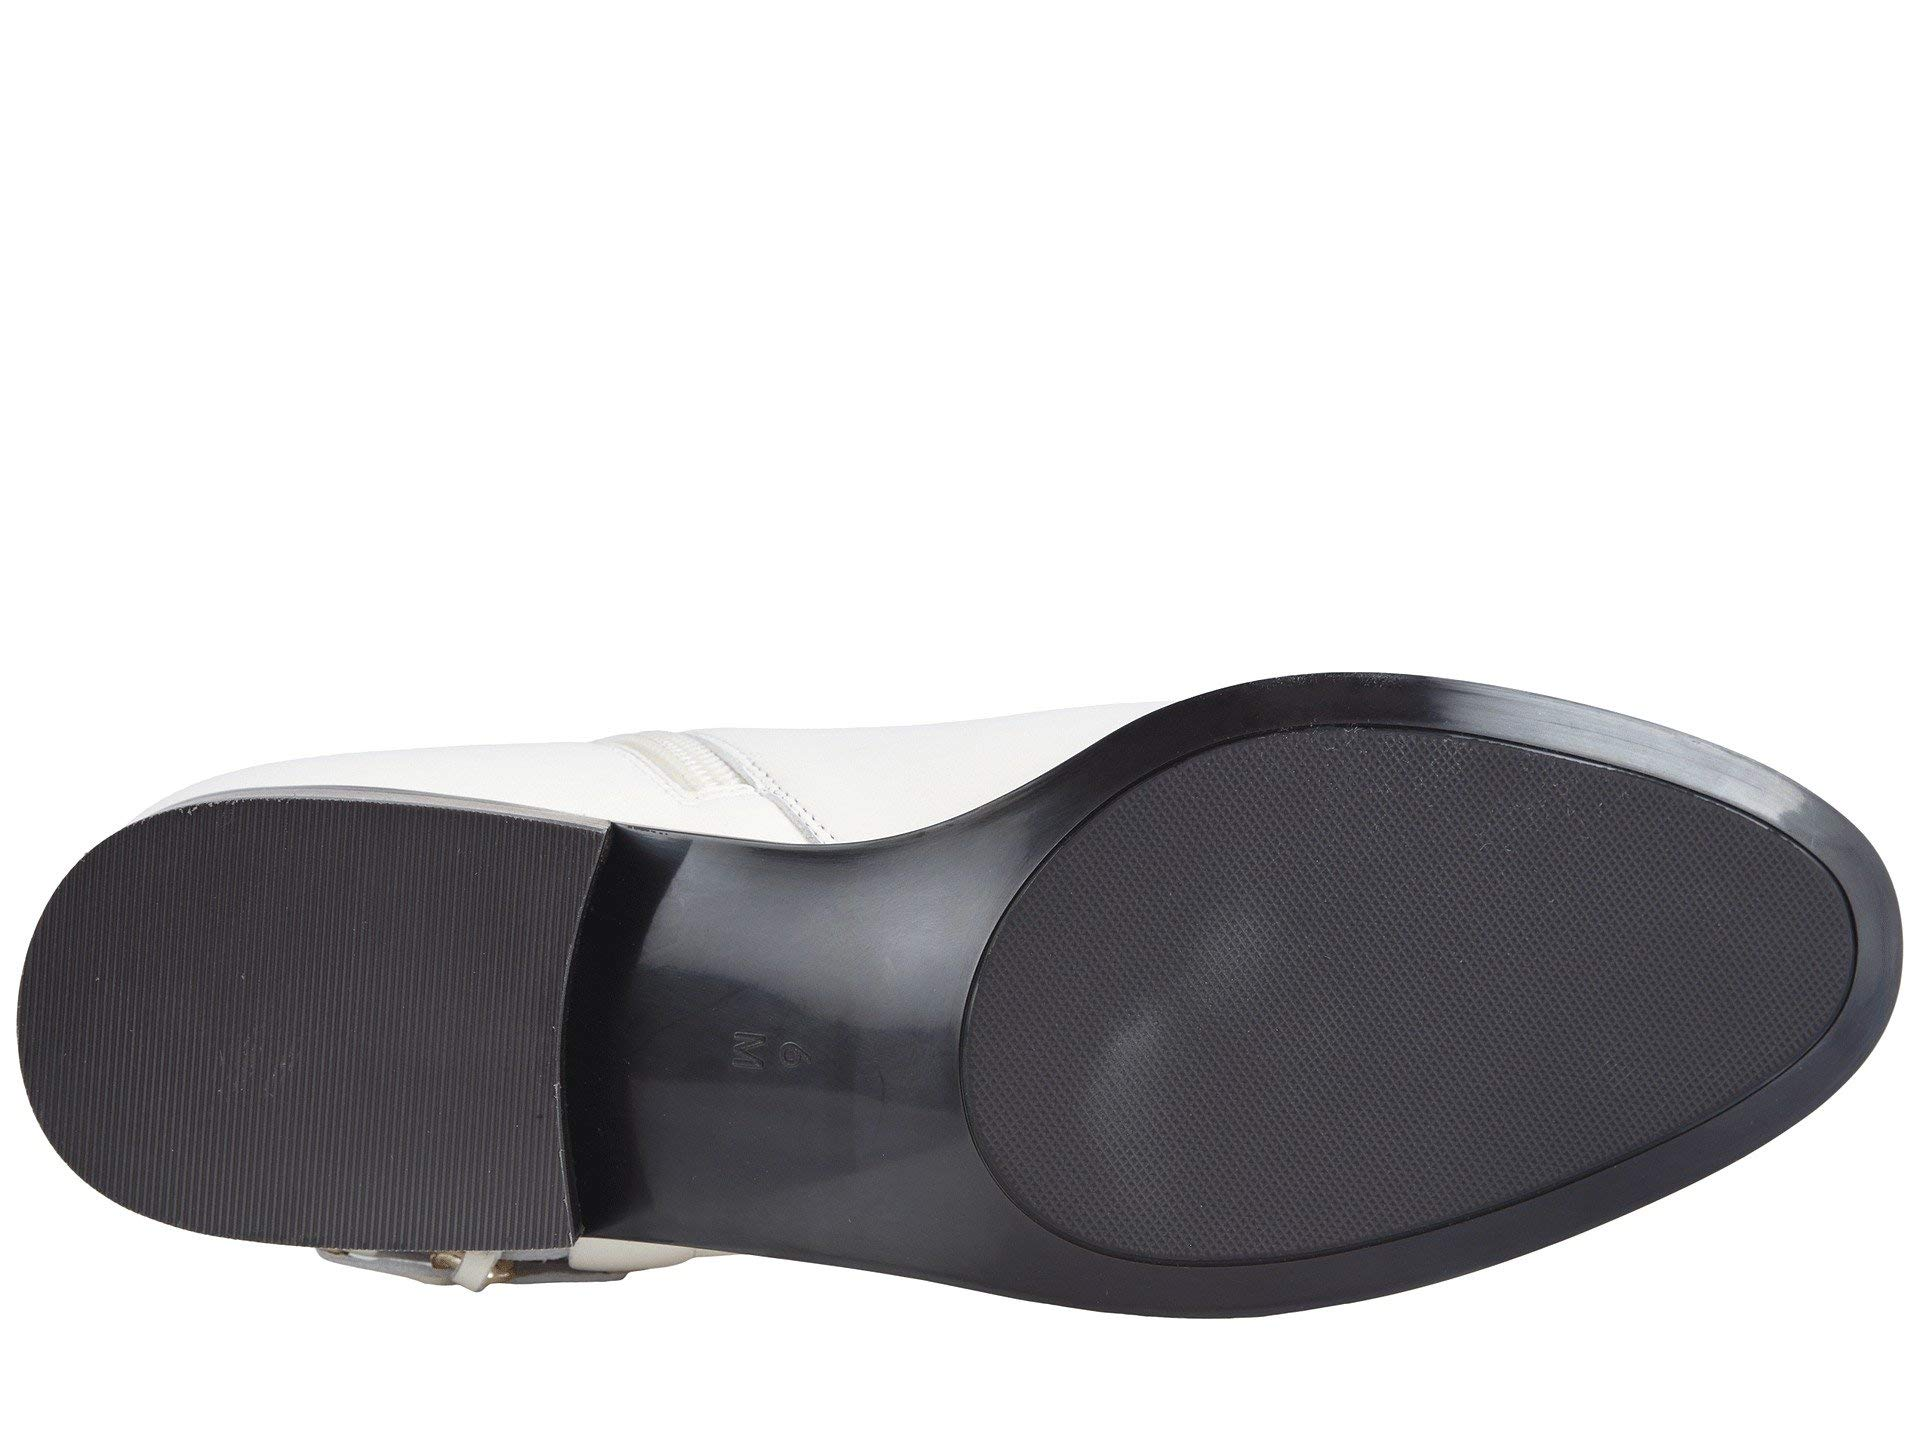line: (1157, 820, 1460, 1128)
